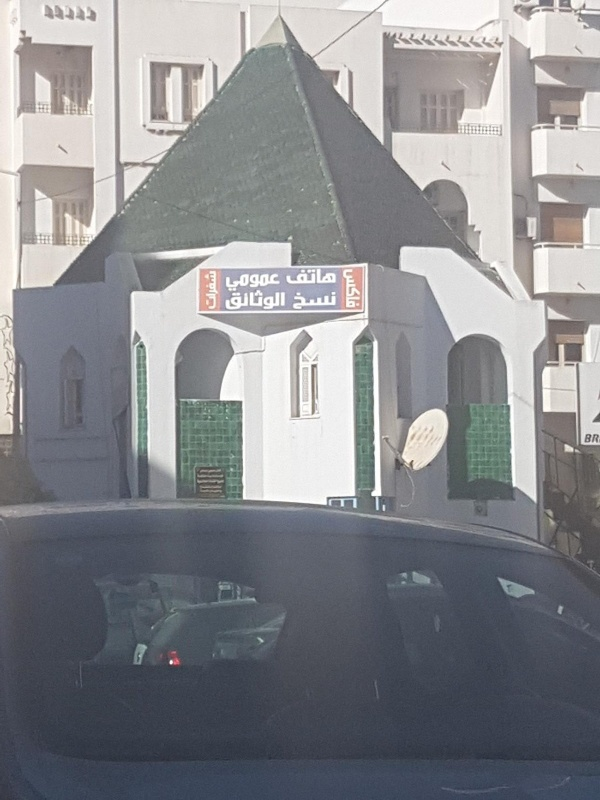text: (209, 269, 220, 311), (342, 267, 352, 309), (353, 267, 362, 309), (225, 290, 240, 311), (241, 290, 256, 311), (257, 290, 272, 311), (305, 291, 320, 310), (321, 291, 336, 310), (241, 273, 256, 292), (257, 273, 272, 292), (273, 290, 286, 311), (226, 273, 240, 292), (289, 269, 304, 285), (305, 269, 320, 285), (321, 269, 336, 285), (294, 291, 304, 310), (204, 269, 208, 311), (273, 273, 281, 292), (209, 465, 225, 473), (195, 465, 208, 473), (209, 484, 223, 490), (209, 489, 223, 495), (209, 474, 225, 479), (209, 479, 225, 484), (196, 474, 208, 479), (197, 479, 208, 484), (199, 484, 208, 490), (199, 489, 208, 495), (337, 291, 339, 310), (286, 269, 288, 285), (337, 269, 338, 285)
